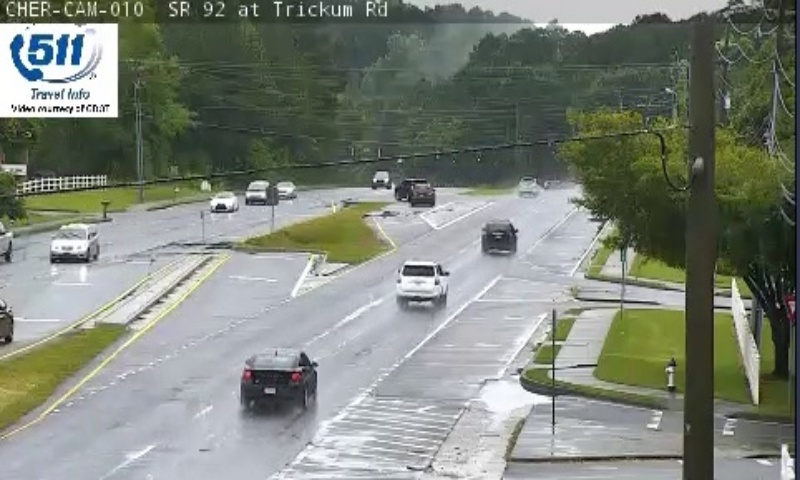car: (240, 350, 318, 400), (395, 261, 448, 301), (481, 220, 516, 252)
